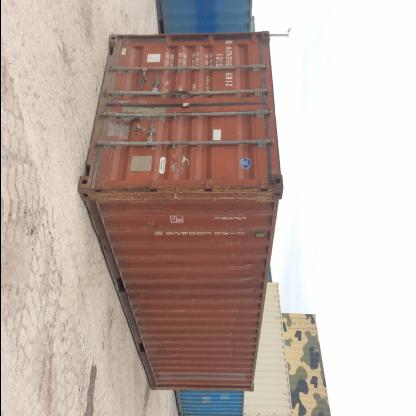Damage: (90, 179, 272, 207), (154, 319, 186, 375), (228, 248, 254, 298), (231, 301, 238, 363), (170, 285, 188, 307), (189, 140, 202, 163)
